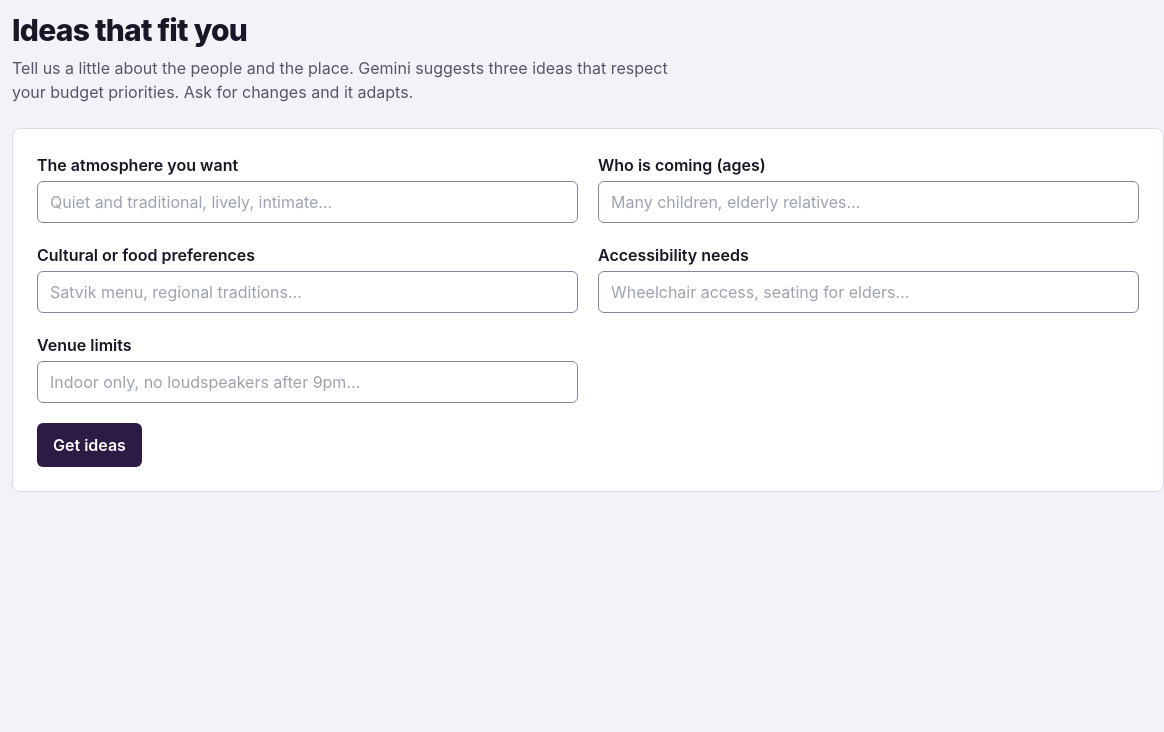
Test case: ideas › shows a network failure without crashing
Step 1. Click the button "Get ideas" → coordinates (89, 445), box [37,423,142,467]
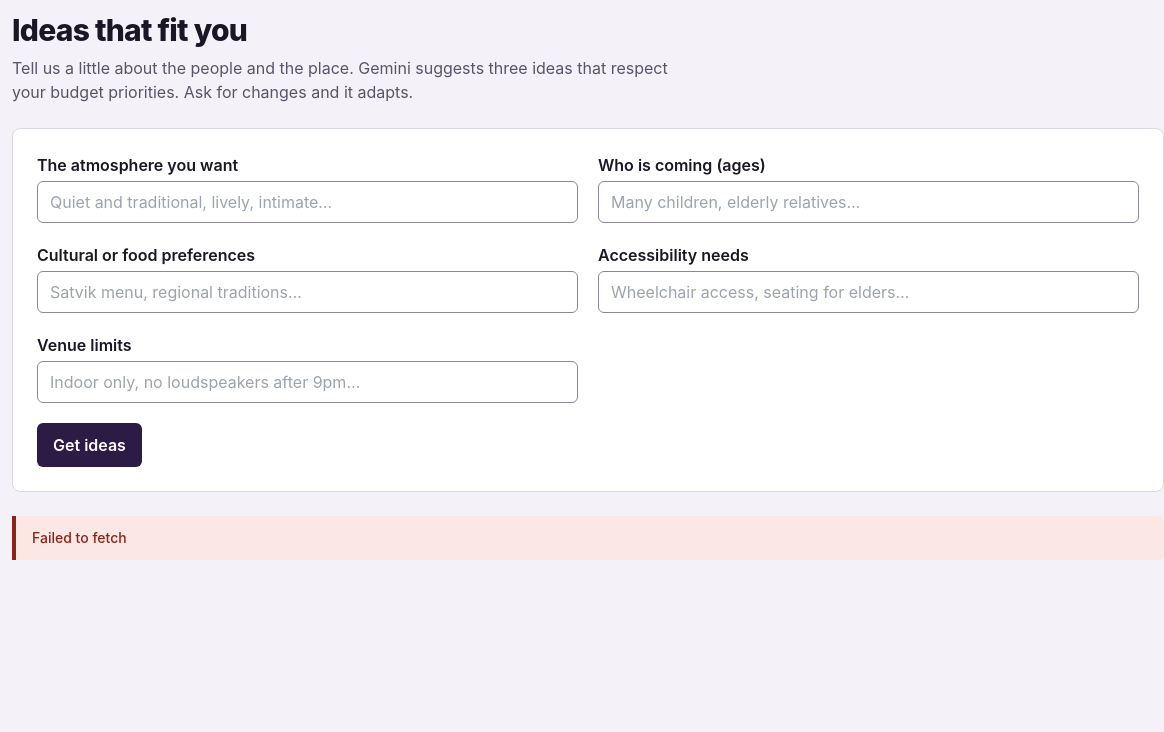
Result: the message reads "Failed to fetch" at [32,529,127,546]
